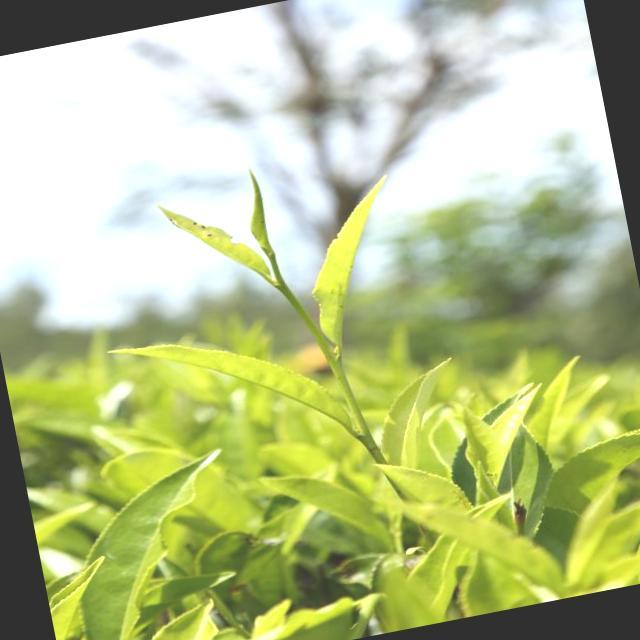Stem: (328, 351, 340, 366)
